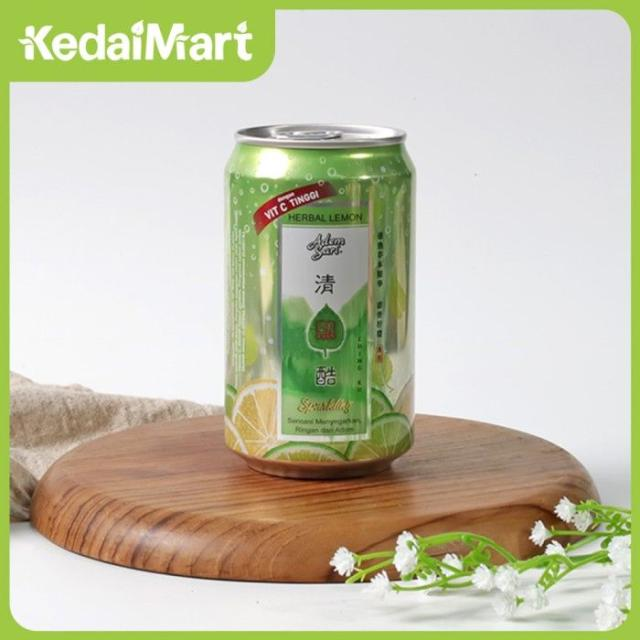ademsarikaleng: (221, 122, 418, 480)
